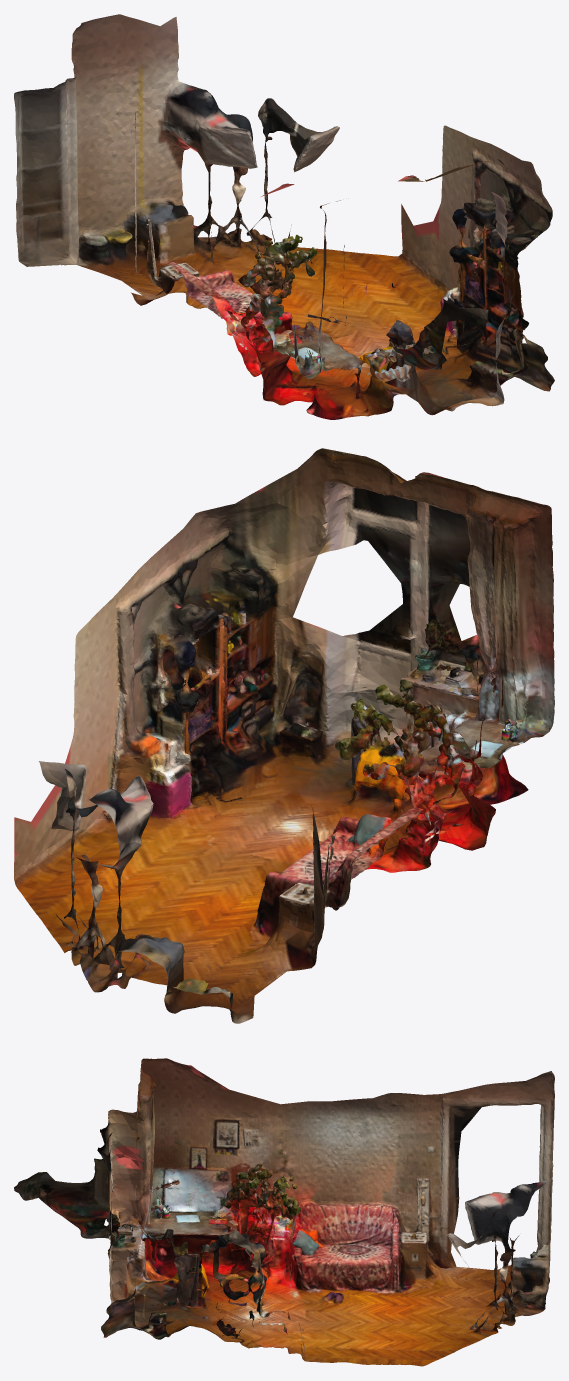
Rendered from scan.glb.
3 renders of one model, top to bottom at view 1: azimuth 30°, elevation 25°; view 2: azimuth 150°, elevation 25°; view 3: azimuth 270°, elevation 25°, orthographic. The views are drawn at different scales.
Parts seen in each view (by area): view 1: GLTF; view 2: GLTF; view 3: GLTF.
Part boxes in pixels (<box>): GLTF: <box>14,14,554,419</box>; GLTF: <box>14,448,554,1023</box>; GLTF: <box>14,1058,554,1366</box>.
Bounding box in the file's own units: 4.12 × 3.4 × 7.37.
1 material, 1 textured.
